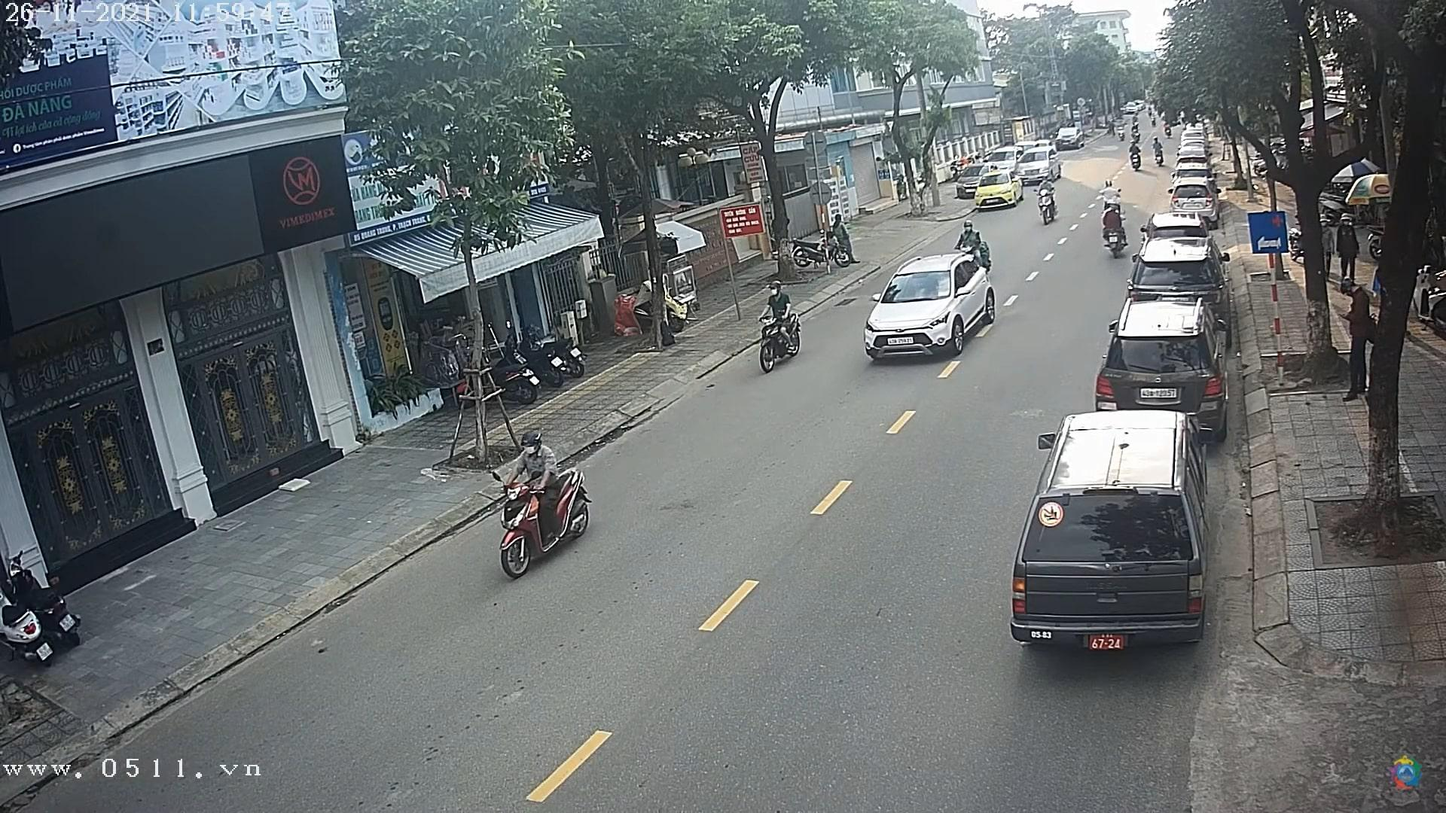car: (1014, 411, 1209, 650), (1097, 298, 1227, 424), (865, 253, 998, 357), (1129, 239, 1227, 303), (1145, 212, 1208, 242), (1167, 165, 1217, 189), (1058, 126, 1086, 148)
motorbike: (494, 471, 592, 582), (754, 309, 808, 376), (1036, 194, 1061, 226)
